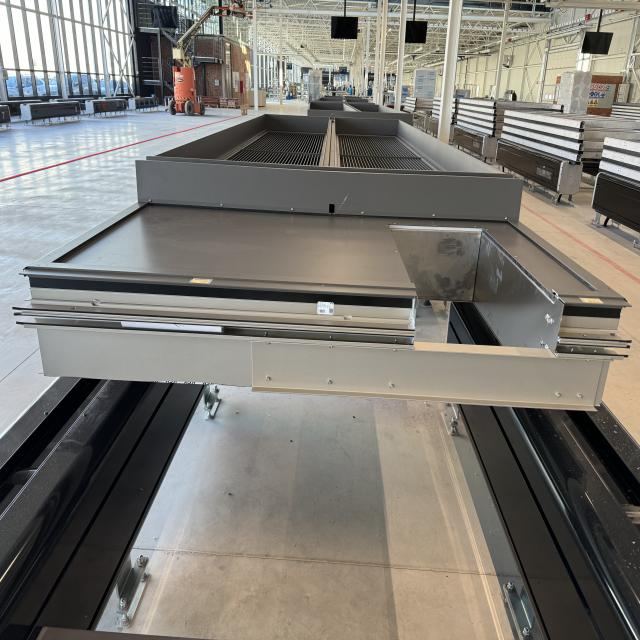ok: (10, 110, 630, 405)
